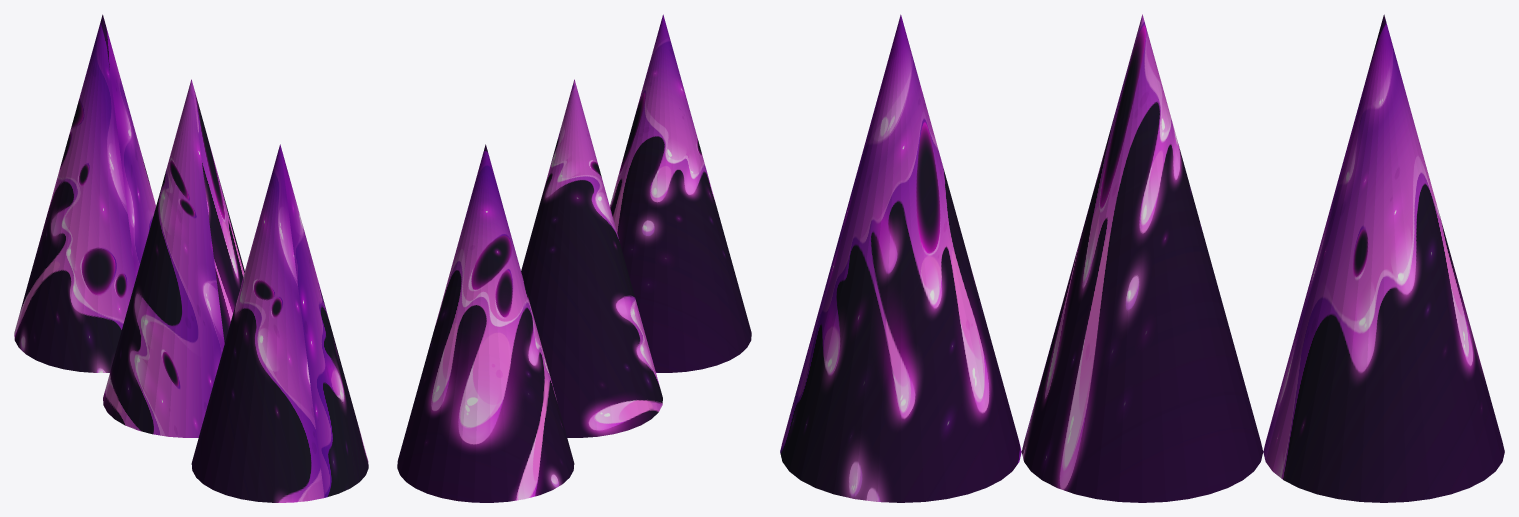
File: tripleSpikes.obj
3 views of the same model, side by side, from view 1: azimuth 30°, elevation 25°; view 2: azimuth 150°, elevation 25°; view 3: azimuth 270°, elevation 25° (orthographic). The views are drawn at different scales.
Parts seen in each view (by area): view 1: Cone.002_Cone.004, Cone, Cone.001_Cone.003; view 2: Cone.001_Cone.003, Cone, Cone.002_Cone.004; view 3: Cone.001_Cone.003, Cone.002_Cone.004, Cone.
Boxes of the visible parts, box(x1,y1,x2,y2) form: Cone.002_Cone.004: box(191, 144, 368, 502); Cone: box(103, 79, 244, 437); Cone.001_Cone.003: box(14, 14, 155, 372); Cone.001_Cone.003: box(397, 144, 574, 502); Cone: box(521, 79, 662, 437); Cone.002_Cone.004: box(610, 14, 751, 372); Cone.001_Cone.003: box(1263, 14, 1504, 502); Cone.002_Cone.004: box(780, 14, 1021, 502); Cone: box(1021, 14, 1263, 502).
Size of the model in its own units: 1 by 2 by 3.
